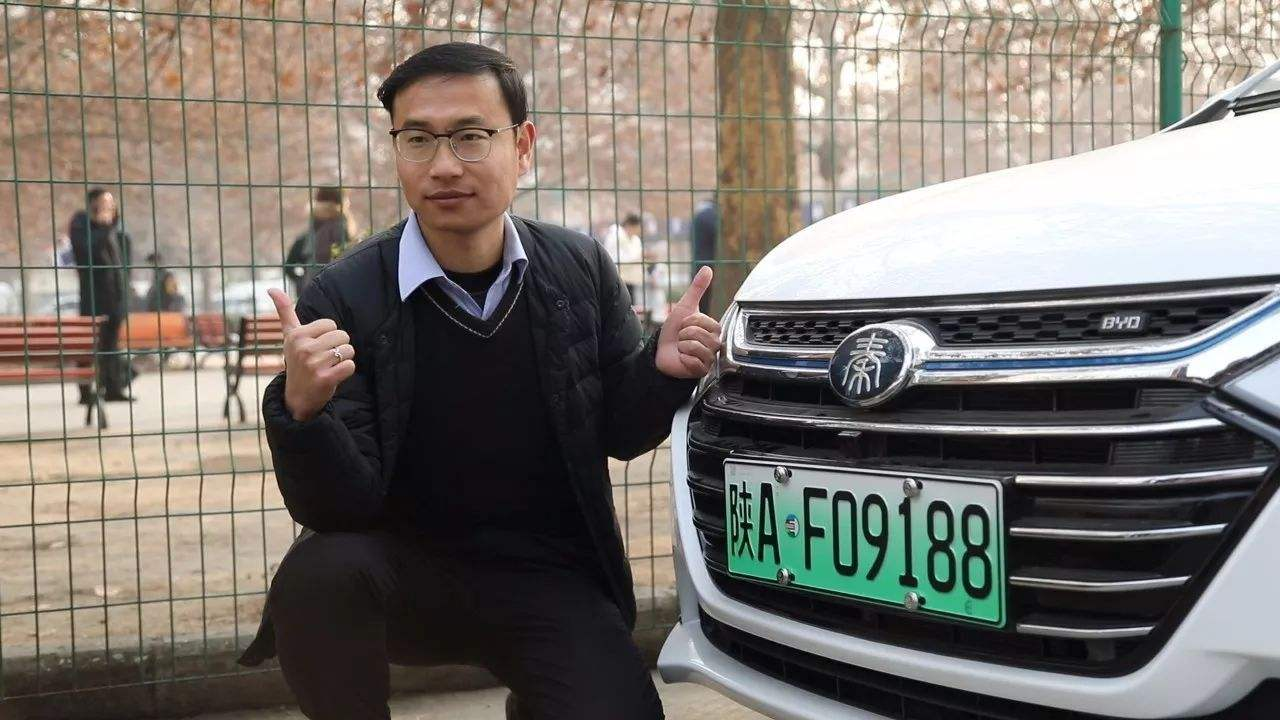plate: (705, 430, 1040, 649)
